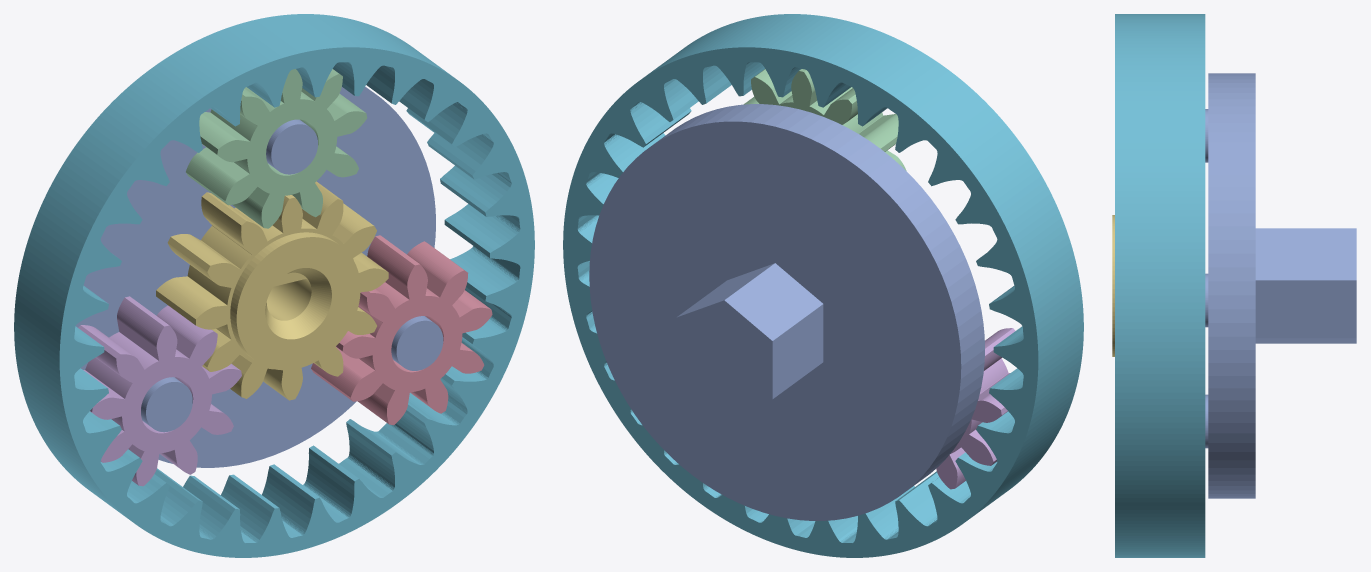
File: planet_stage_demo.glb
The picture shows the model from 3 angles, left to right: view 1: azimuth 30°, elevation 25°; view 2: azimuth 150°, elevation 25°; view 3: azimuth 270°, elevation 25°; orthographic projection.
Visible parts, largest first — view 1: ring, carrier, sun, planet_2, planet_1, planet_0; view 2: carrier, ring, planet_0, planet_1; view 3: ring, carrier, sun.
Part boxes in pixels (x1=…): ring: x1=14, y1=14, x2=534, y2=557; carrier: x1=76, y1=86, x2=443, y2=467; sun: x1=156, y1=181, x2=388, y2=400; planet_2: x1=311, y1=235, x2=492, y2=425; planet_1: x1=78, y1=296, x2=241, y2=486; planet_0: x1=186, y1=69, x2=367, y2=228; carrier: x1=589, y1=104, x2=984, y2=520; ring: x1=563, y1=14, x2=1083, y2=557; planet_0: x1=743, y1=69, x2=906, y2=170; planet_1: x1=936, y1=328, x2=1015, y2=489; ring: x1=1115, y1=14, x2=1205, y2=557; carrier: x1=1205, y1=73, x2=1356, y2=498; sun: x1=1112, y1=215, x2=1114, y2=356.
Bounding box in the file's own units: 34.5 × 34.5 × 15.5.
